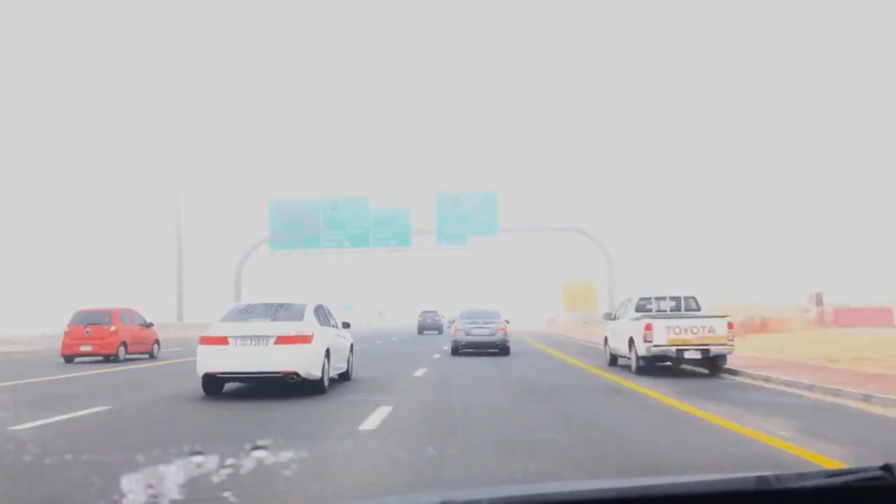car: (193, 299, 355, 393), (600, 292, 737, 378), (57, 305, 162, 363), (446, 307, 511, 359), (416, 310, 445, 335)
